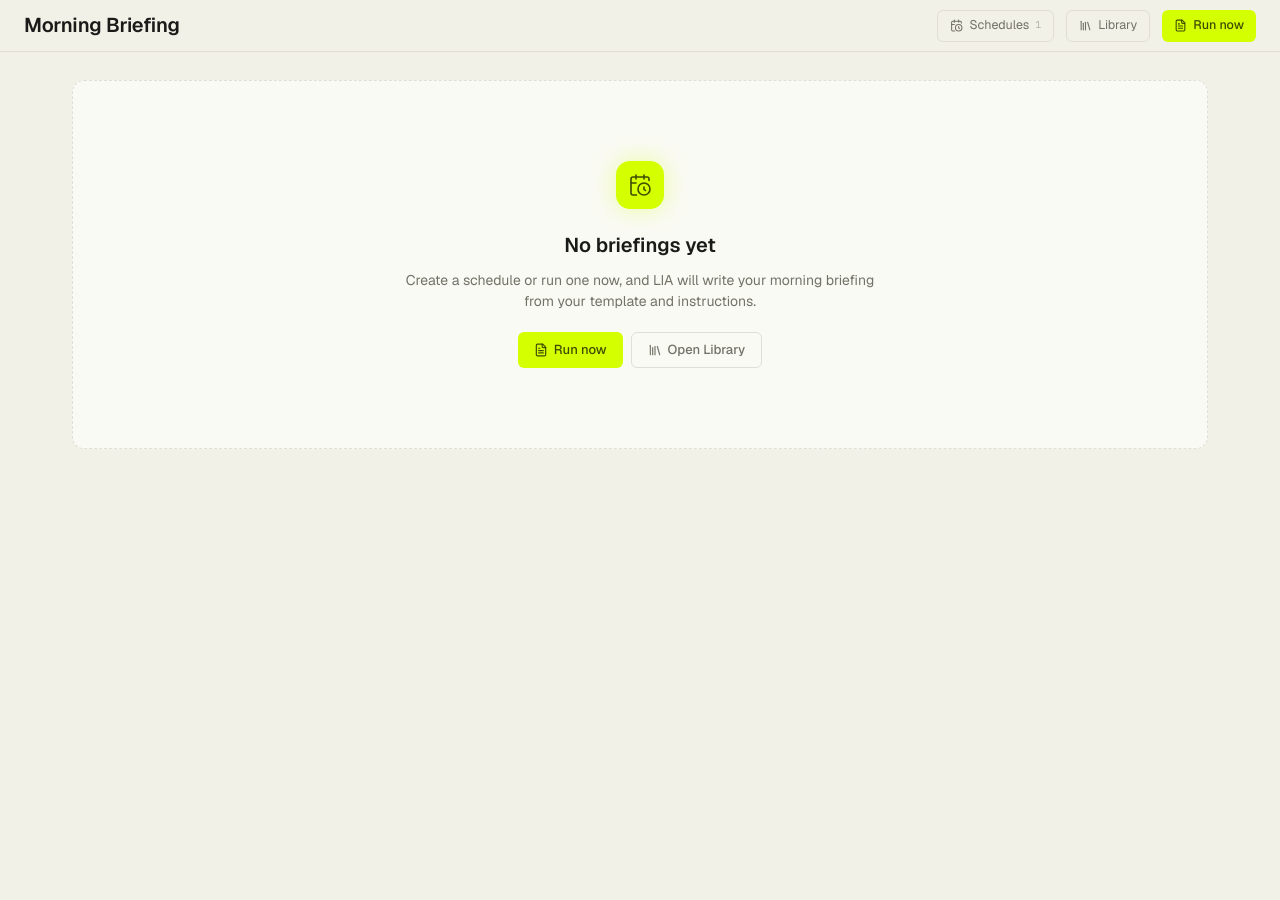
Test case: MorningBriefing page › opens the schedules view and the schedule editor
Click the button "Schedules 1": (996, 26) [937,10,1054,42]
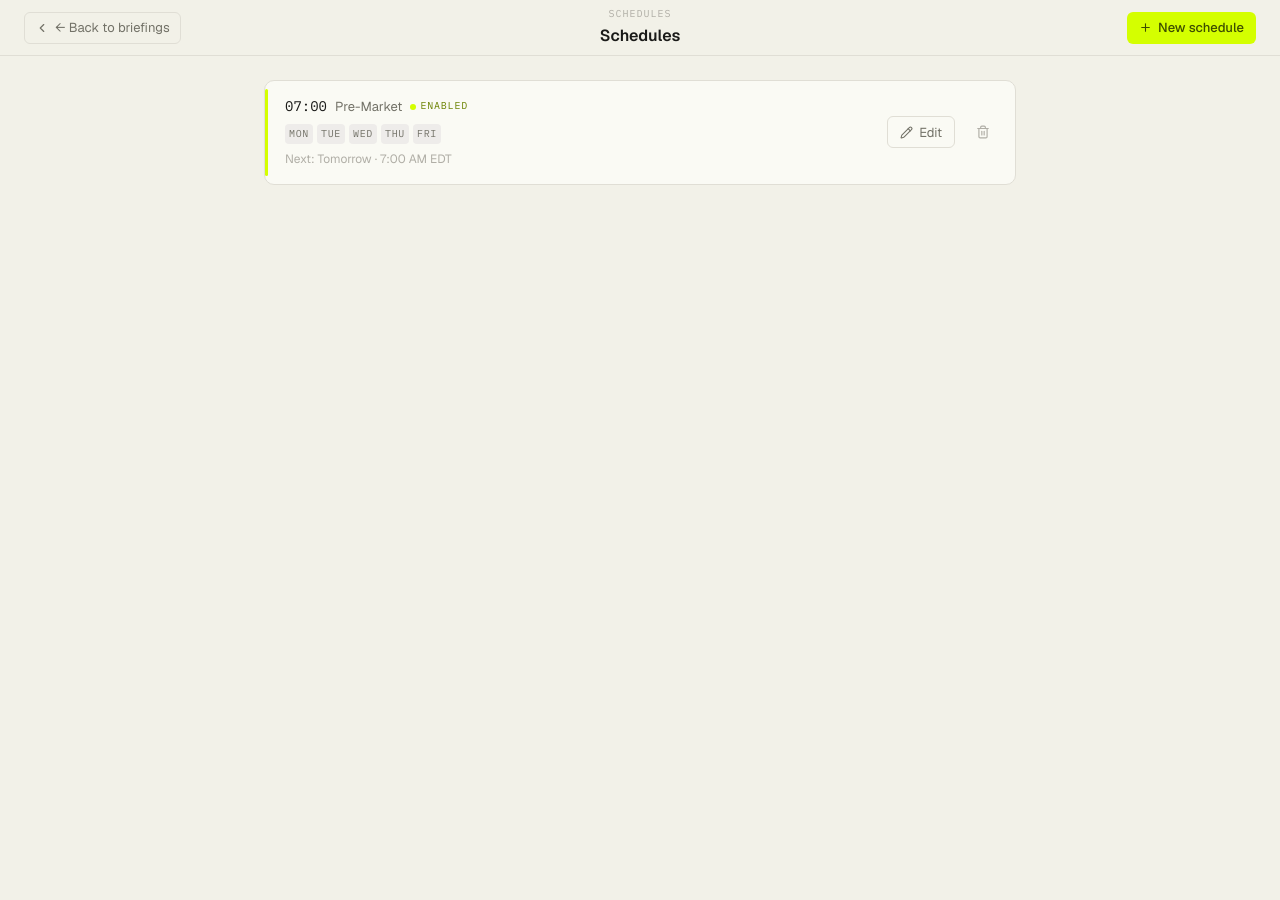
Check: the element with test id "mb-schedules" is shown
// Open the editor for the existing row.
Click the button "Edit": (921, 132) [887,116,955,148]
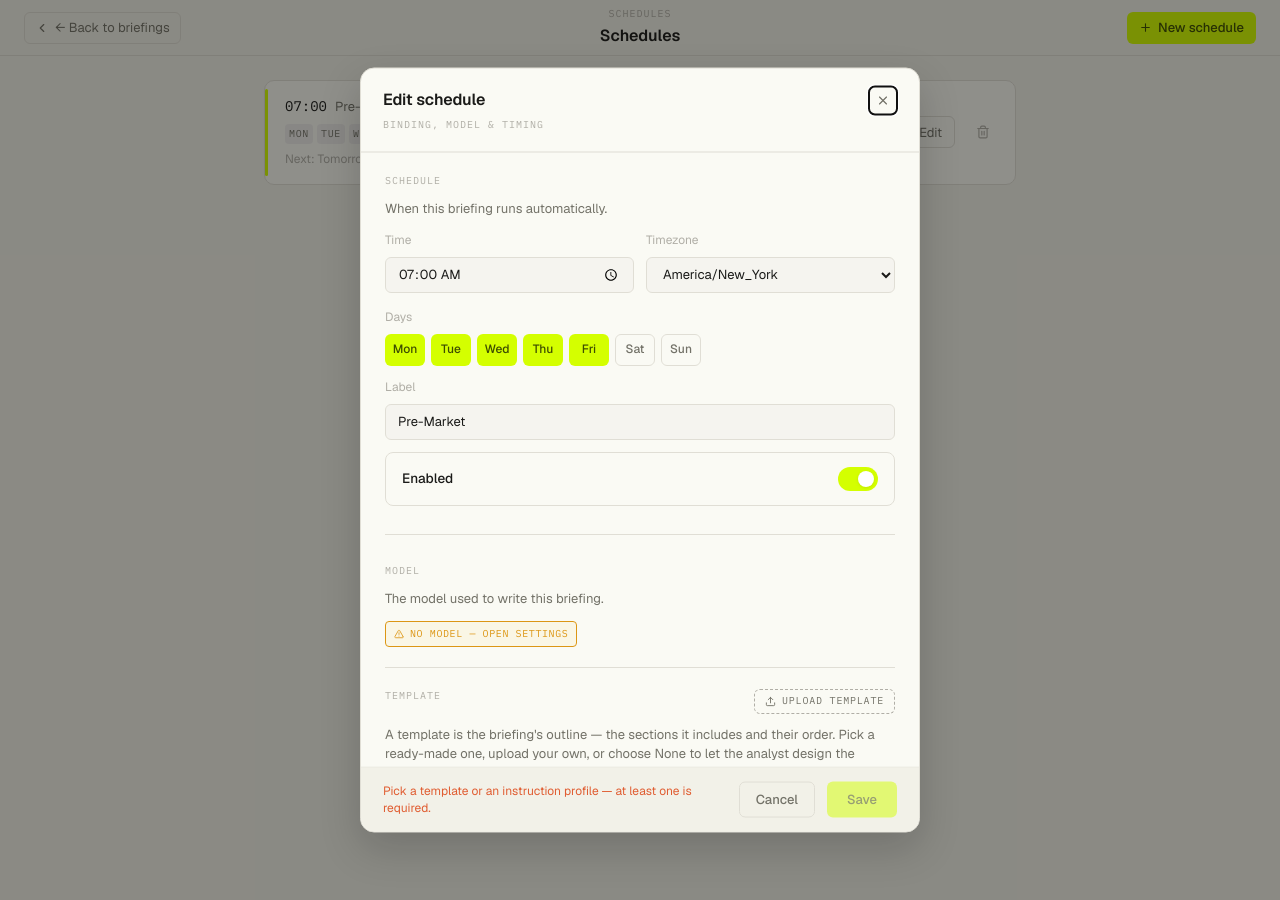
Check: the button with test id "mb-schedule-save" is shown, box [827,782,897,818]
Check: the time field with test id "mb-schedule-time" is shown, box [385,256,634,292]
